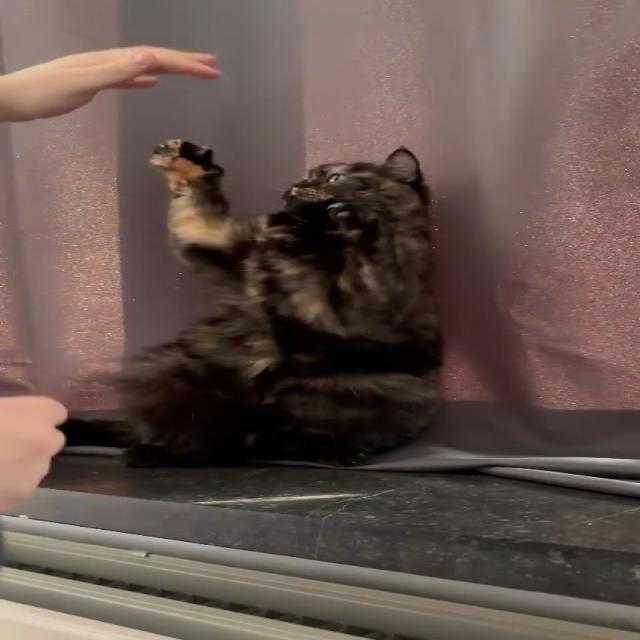authorized: (102, 137, 446, 468)
